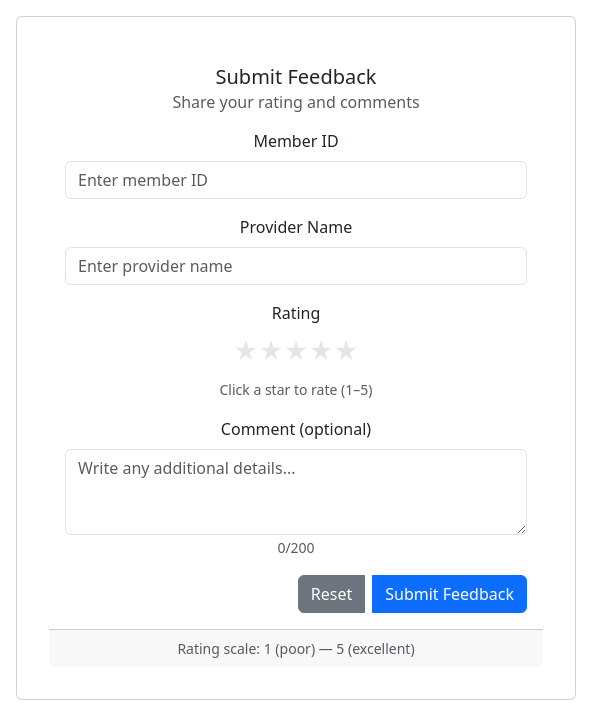
Test case: FeedbackCard component › should reset comment value when reset button is clicked
This screenshot has width=593, height=717.
Step 1. Type "comment is set" into the text box labelled "Comment (optional)" → (296, 492), box [65,449,527,535]
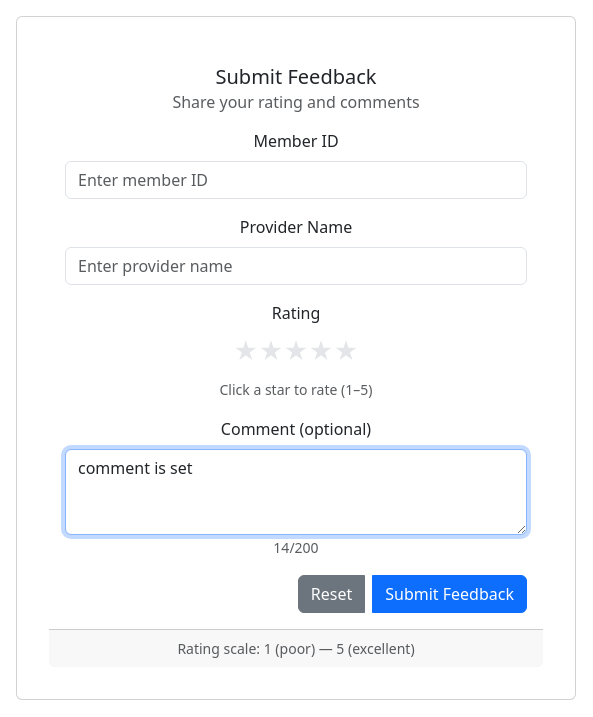
Step 2. Click the button "Reset" → (332, 594), box [298,575,365,613]
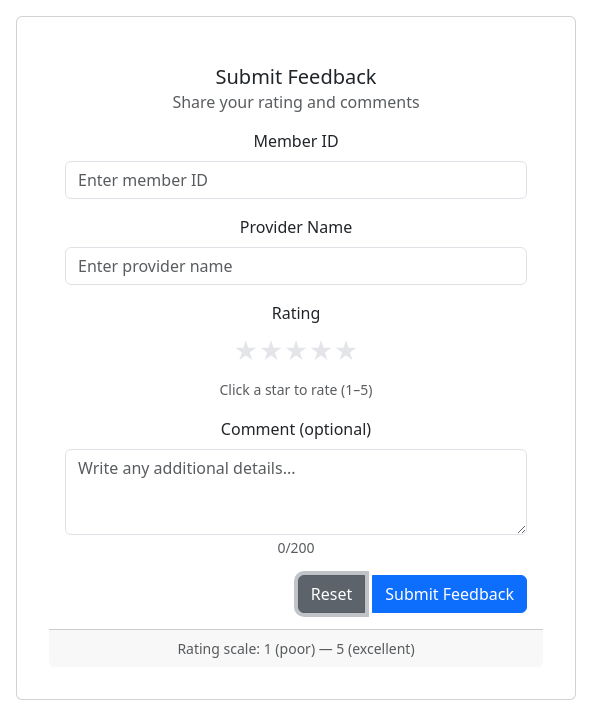
Check: the text box labelled "Comment (optional)" is empty, box [65,449,527,535]
